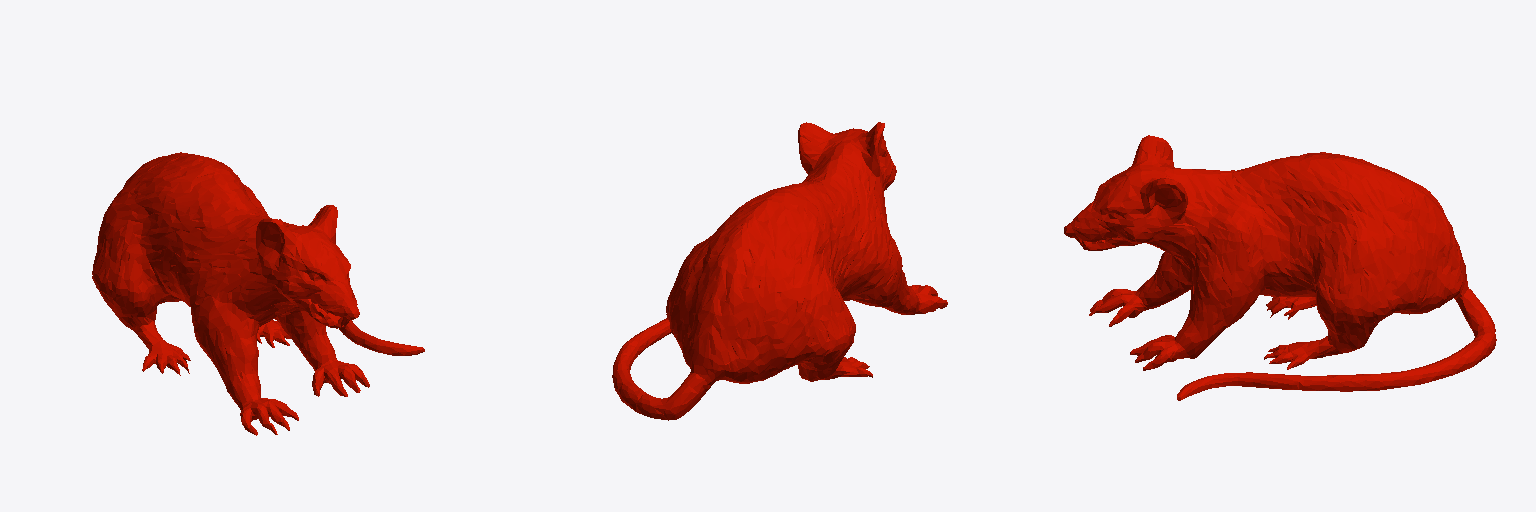
The model's file is rat.obj.
3 views of the same model, side by side, from view 1: azimuth 30°, elevation 25°; view 2: azimuth 150°, elevation 25°; view 3: azimuth 270°, elevation 25° (orthographic).
Parts seen in each view (by area): view 1: rat; view 2: rat; view 3: rat.
Part boxes in pixels (bbox=[...]): rat: bbox=[92, 152, 424, 435]; rat: bbox=[612, 122, 947, 420]; rat: bbox=[1064, 135, 1496, 400].
Size of the model in its own units: 1.59 by 1.24 by 2.52.